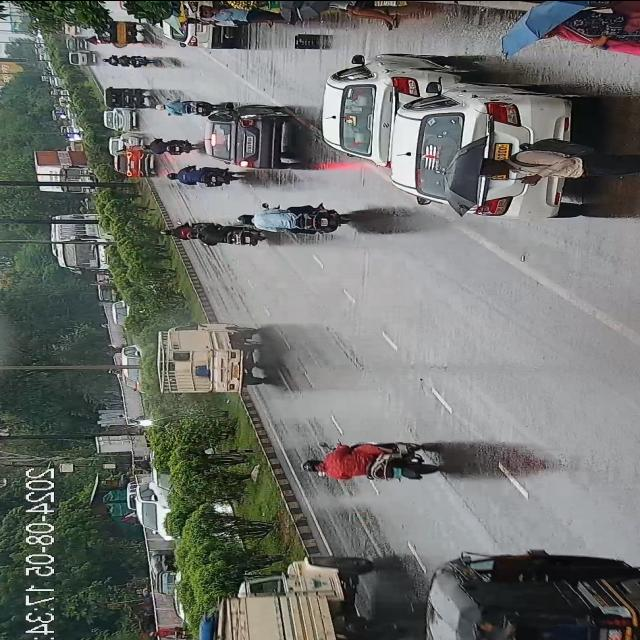2-wheelers: (306, 440, 442, 492), (192, 212, 260, 255), (172, 166, 242, 196), (142, 134, 189, 158), (102, 51, 152, 70), (152, 99, 208, 115), (150, 628, 195, 640), (82, 34, 112, 44), (131, 460, 151, 470), (127, 416, 148, 424)
auto: (422, 544, 640, 640), (105, 84, 154, 108), (150, 547, 176, 591), (101, 20, 142, 44)
bus: (53, 214, 114, 274)
car: (396, 72, 560, 210), (320, 55, 441, 162), (210, 106, 298, 168), (158, 0, 233, 51), (134, 484, 172, 540), (112, 147, 152, 180), (102, 107, 137, 129), (107, 130, 145, 148), (71, 51, 96, 66), (67, 36, 86, 48)
pedestrian: (473, 149, 640, 189), (541, 5, 631, 55), (321, 0, 398, 27), (195, 5, 293, 24), (184, 16, 248, 27)
truck: (211, 555, 375, 640), (147, 326, 265, 406), (34, 148, 96, 194)
